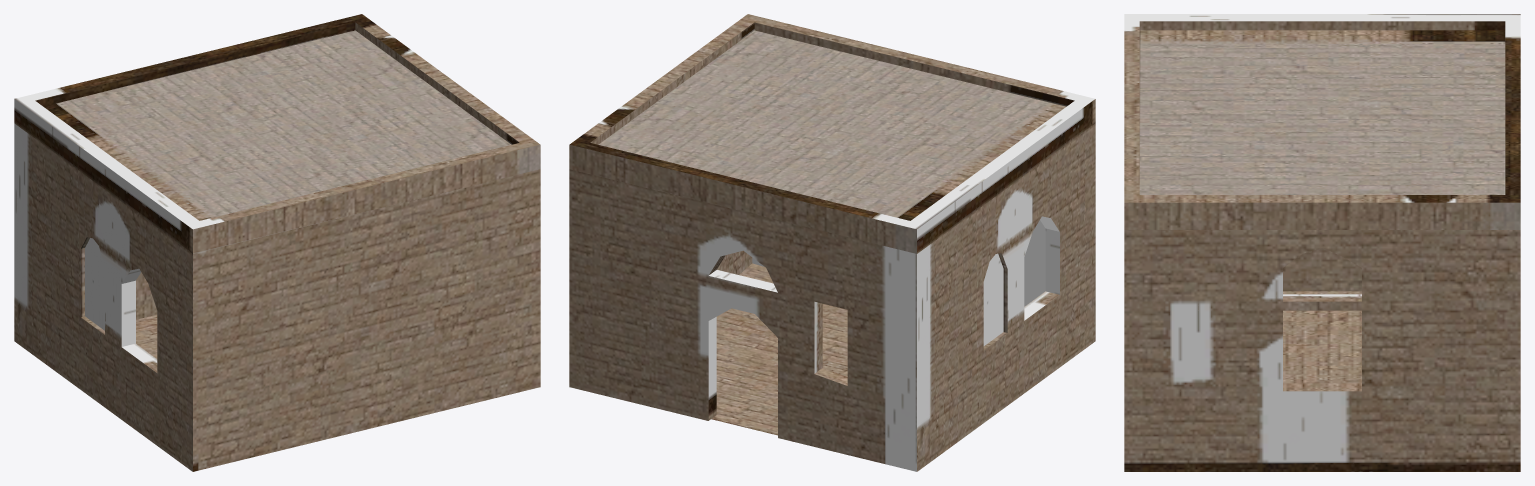
The model's file is desertbrick1.obj.
The picture shows the model from 3 angles, left to right: view 1: azimuth 30°, elevation 25°; view 2: azimuth 150°, elevation 25°; view 3: azimuth 270°, elevation 25°; orthographic projection. The views are drawn at different scales.
Bounding box in the file's own units: 4.78 × 3.19 × 4.25.
